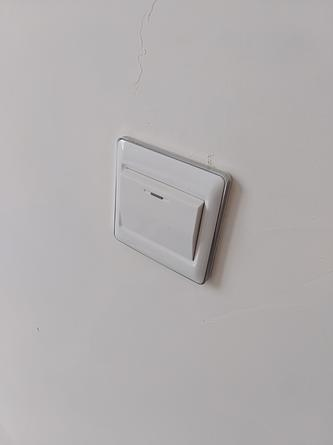switch: (114, 163, 205, 261)
